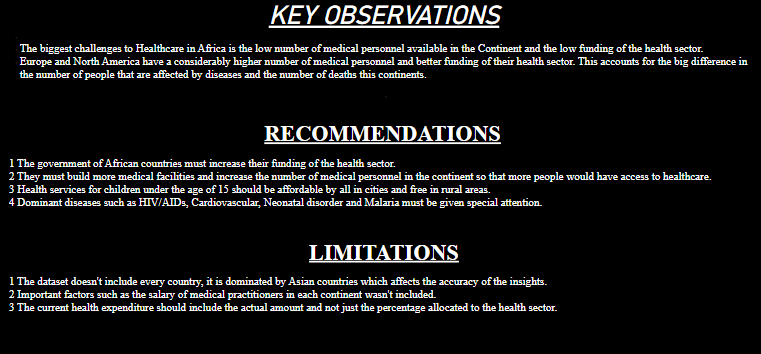

What the dashboard file says about the page in this screenshot:
{"tool":"powerbi","page":{"name":"Page 3","canvas":[1280,720],"ordinal":2},"visuals":[{"type":"textbox","title":"KEY OBSERVATIONS","box":[10.1,0,1269.9,720.6],"z":0}]}

Visuals, with their boxes on the page's 1280x720 design canvas (x1, y1, x2, y2). These are canvas units, not pixel positions in the 761x354 screenshot, which may show the page scaled, cropped or inside an application window:
"KEY OBSERVATIONS" textbox: select_region(10, 0, 1280, 721)
